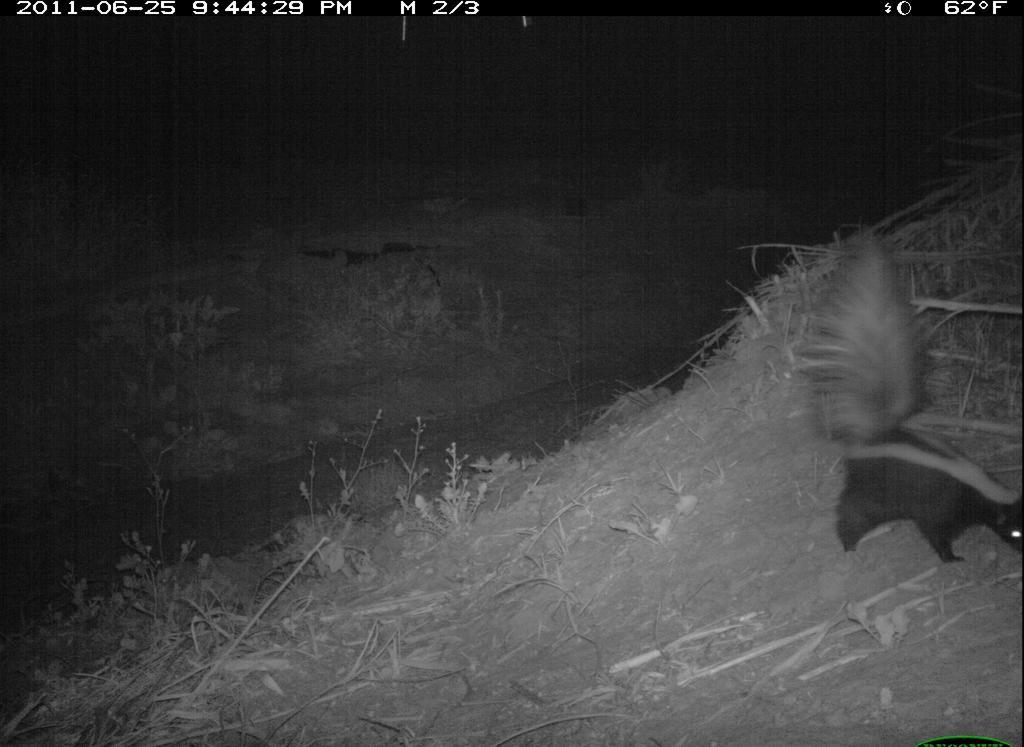skunk: (788, 213, 1022, 577)
